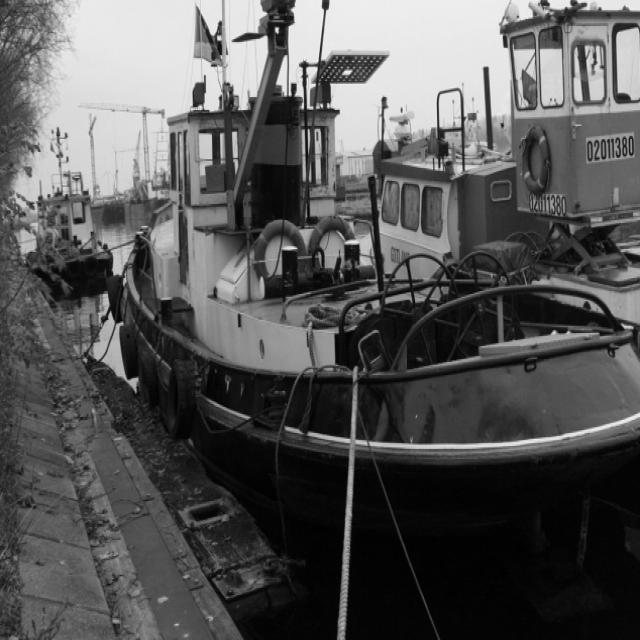tugboat: (105, 1, 640, 583)
